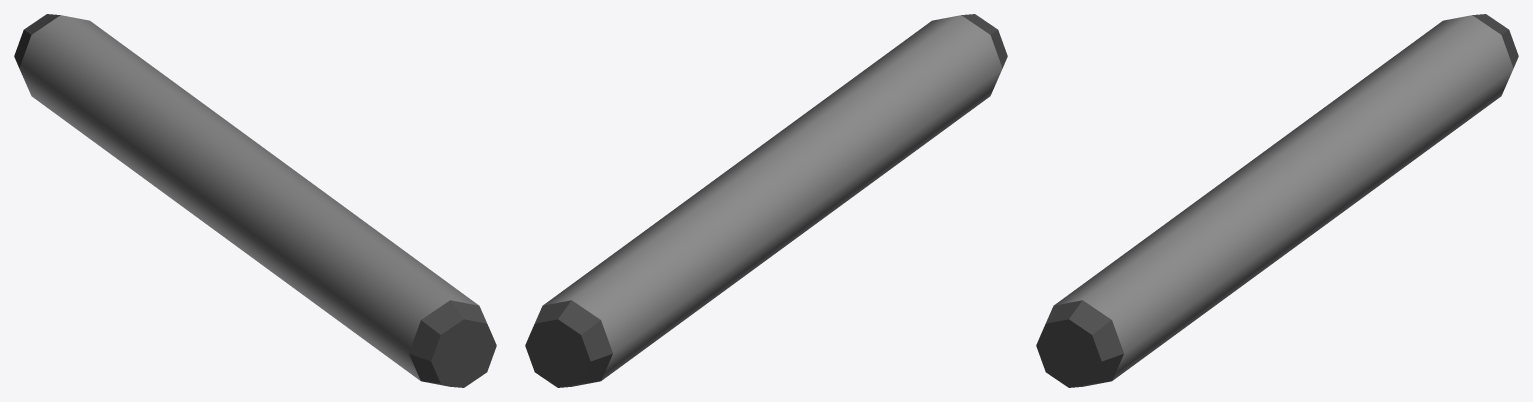
The model's file is rod_stick_1.FBX.
The picture shows the model from 3 angles, left to right: view 1: azimuth 30°, elevation 25°; view 2: azimuth 150°, elevation 25°; view 3: azimuth 330°, elevation 25°; orthographic projection.
Parts seen in each view (by area): view 1: rod_stick_1; view 2: rod_stick_1; view 3: rod_stick_1.
Boxes of the visible parts, x1,y1,x2,y2 form: rod_stick_1: (14, 14, 496, 387); rod_stick_1: (525, 14, 1007, 387); rod_stick_1: (1036, 14, 1518, 387).
Size of the model in its own units: 3.11 by 3.11 by 27.12.
